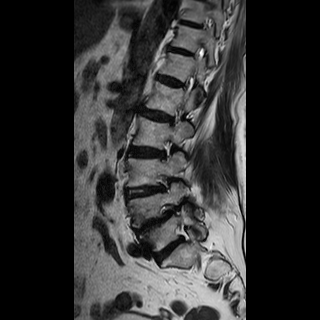LFS0: (154, 135, 178, 165), (170, 220, 193, 249)
LFS2: (152, 169, 179, 195)
LFS3: (153, 199, 180, 219)
